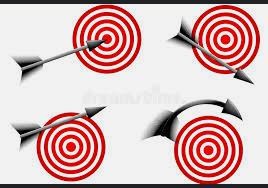bulls eye: (174, 117, 246, 187)
